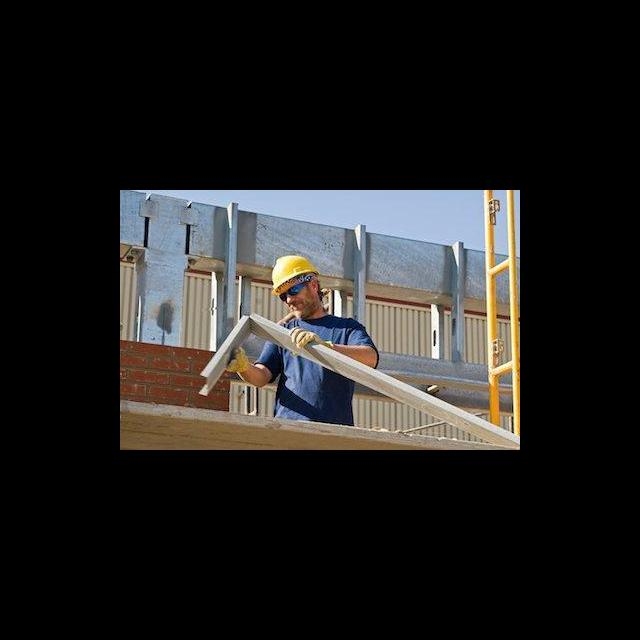Gloves: (290, 327, 333, 348), (227, 347, 250, 374)
Hardhat: (268, 254, 321, 292)
NO-Mask: (289, 301, 317, 316)
NO-Safety Vest: (276, 318, 352, 425)
Person: (224, 255, 380, 427)
